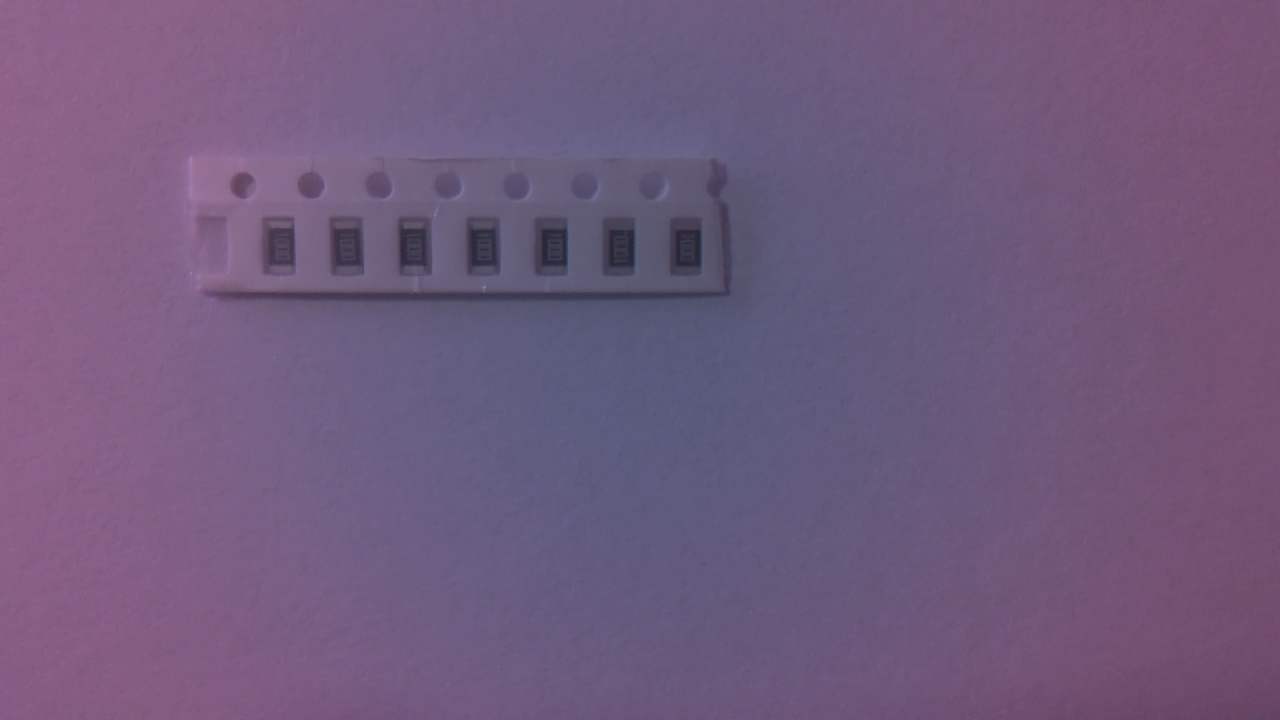Resistor: (470, 219, 505, 282), (335, 219, 371, 279), (401, 223, 437, 282), (268, 219, 302, 280), (607, 225, 643, 281), (541, 222, 573, 284), (675, 221, 709, 278)
